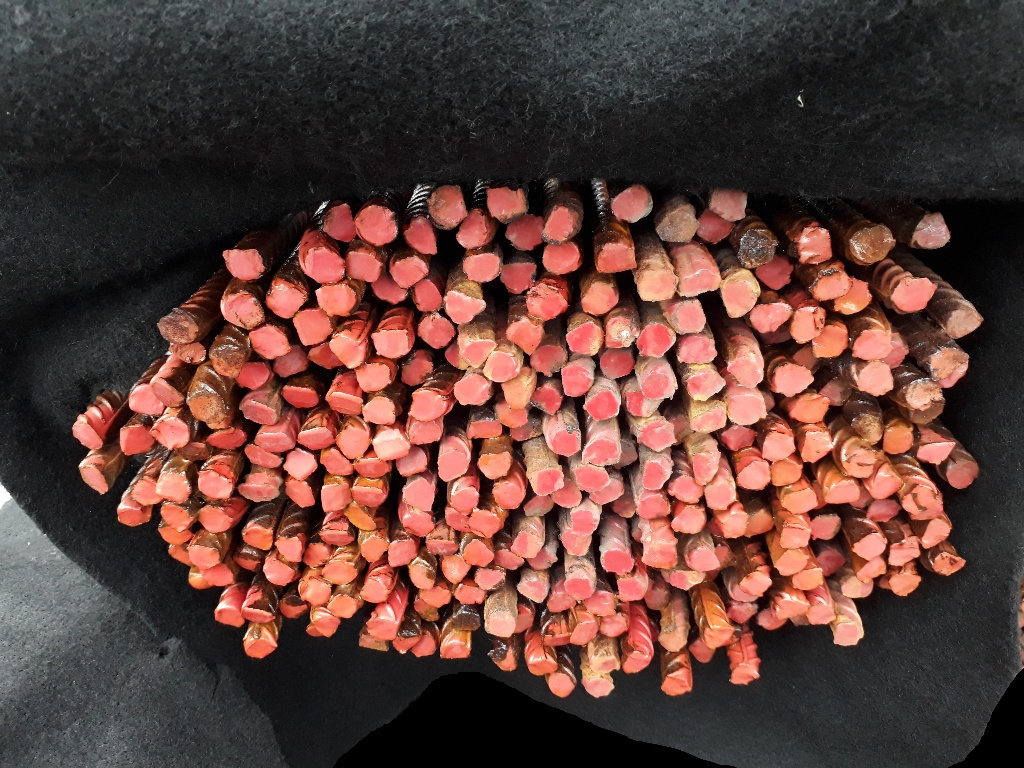dipstick: (723, 270, 759, 316), (356, 205, 397, 245), (851, 225, 893, 262), (430, 187, 466, 228), (221, 293, 263, 328), (892, 278, 932, 313), (418, 312, 454, 349), (528, 285, 565, 321), (293, 311, 332, 345), (305, 250, 344, 284), (612, 186, 649, 221), (739, 232, 776, 267), (798, 228, 833, 265), (266, 284, 305, 317), (446, 292, 486, 324), (223, 249, 264, 280), (857, 362, 893, 397), (638, 323, 675, 357), (249, 328, 289, 359), (835, 280, 871, 314), (658, 211, 696, 243), (323, 203, 354, 242), (597, 244, 637, 274), (773, 366, 813, 396), (670, 299, 705, 333), (915, 213, 949, 248), (486, 188, 528, 216), (750, 305, 793, 332), (507, 215, 542, 248), (931, 346, 967, 378), (729, 395, 767, 425), (159, 315, 198, 344), (687, 371, 726, 400), (851, 331, 890, 360), (583, 283, 618, 315), (814, 323, 846, 358), (410, 389, 446, 420), (696, 211, 732, 242), (318, 284, 355, 314), (711, 190, 748, 220), (789, 396, 830, 423), (639, 271, 677, 300), (543, 208, 575, 242), (506, 321, 541, 352), (501, 263, 536, 294), (344, 251, 380, 281), (543, 244, 579, 274), (680, 270, 720, 297), (692, 403, 729, 432), (458, 210, 486, 248), (337, 427, 370, 459), (566, 322, 599, 354), (792, 308, 824, 341), (454, 376, 488, 407), (600, 348, 634, 379), (758, 259, 792, 290), (812, 271, 851, 298), (406, 219, 436, 254), (736, 460, 771, 490), (153, 419, 189, 448), (463, 254, 499, 283), (728, 359, 763, 388), (678, 338, 717, 364), (372, 329, 408, 357), (244, 628, 277, 658), (187, 395, 225, 421), (374, 432, 409, 460), (240, 446, 282, 469), (801, 431, 832, 462), (275, 346, 305, 378), (284, 450, 316, 480), (402, 481, 434, 511), (120, 425, 153, 454), (438, 450, 467, 483), (907, 379, 941, 407), (626, 392, 664, 417), (638, 424, 673, 451), (531, 346, 567, 372), (211, 348, 242, 378), (396, 447, 427, 477), (414, 280, 443, 312), (485, 353, 517, 382), (605, 318, 637, 347), (198, 471, 231, 499), (762, 433, 795, 461), (852, 533, 886, 560), (372, 279, 408, 304), (583, 440, 619, 465), (821, 377, 851, 407), (852, 414, 882, 444), (332, 336, 363, 365), (80, 464, 109, 495), (394, 258, 425, 287), (72, 422, 104, 450), (158, 472, 190, 500), (357, 363, 389, 391), (672, 506, 704, 534), (771, 459, 803, 487), (363, 397, 396, 424), (319, 449, 353, 475), (159, 504, 194, 529), (947, 312, 982, 337), (921, 520, 950, 550), (464, 339, 495, 367), (587, 392, 618, 420), (883, 426, 914, 454), (283, 385, 319, 409), (400, 358, 432, 385), (781, 488, 817, 512), (888, 539, 920, 566), (199, 507, 232, 533), (776, 549, 809, 575), (694, 451, 720, 484), (324, 391, 361, 414), (721, 427, 758, 450), (669, 476, 703, 501), (207, 428, 247, 449), (387, 540, 417, 568), (285, 481, 315, 509), (531, 387, 561, 415), (345, 505, 376, 532), (705, 483, 736, 510), (478, 453, 510, 479), (408, 420, 441, 445), (530, 469, 563, 494), (241, 401, 275, 425), (575, 466, 609, 490), (297, 427, 334, 449), (321, 482, 350, 510), (494, 482, 523, 510), (562, 366, 590, 395), (408, 558, 435, 588), (470, 510, 500, 537), (948, 461, 978, 488), (846, 451, 876, 478), (130, 387, 161, 413), (152, 380, 183, 406), (910, 400, 945, 423), (310, 344, 342, 369), (643, 373, 675, 398), (274, 535, 301, 564), (322, 561, 356, 584), (255, 432, 294, 452), (403, 511, 434, 536), (485, 612, 516, 637), (871, 475, 902, 500), (591, 480, 623, 504), (902, 489, 934, 513), (917, 443, 955, 463), (638, 495, 671, 518), (360, 536, 387, 564), (747, 509, 774, 537), (232, 546, 261, 572), (238, 364, 268, 389), (264, 560, 294, 585), (811, 515, 841, 540), (934, 552, 965, 576), (642, 547, 677, 568), (450, 487, 478, 513), (552, 430, 580, 456), (781, 525, 810, 550), (643, 461, 668, 490), (169, 343, 205, 363), (359, 578, 389, 602), (621, 650, 651, 674), (242, 600, 273, 623), (243, 526, 274, 549), (329, 595, 360, 618), (603, 551, 634, 574), (443, 556, 469, 583), (570, 620, 597, 646), (354, 459, 389, 479), (556, 479, 581, 507), (818, 551, 846, 576), (239, 484, 280, 501), (189, 545, 219, 568), (661, 674, 692, 696), (868, 500, 899, 522), (134, 476, 158, 504), (302, 580, 330, 604), (512, 533, 540, 557), (889, 574, 921, 595), (466, 542, 495, 565), (320, 527, 355, 546), (204, 563, 234, 585), (792, 568, 822, 590), (841, 577, 874, 597), (352, 486, 386, 505), (835, 623, 863, 646), (495, 407, 527, 427), (688, 550, 720, 570), (518, 581, 548, 602), (670, 571, 705, 589), (573, 510, 598, 535), (563, 532, 590, 555), (587, 592, 614, 615), (503, 383, 530, 406), (117, 504, 148, 524), (729, 664, 760, 684), (279, 596, 307, 618), (743, 573, 771, 595), (466, 420, 500, 438), (825, 484, 859, 502), (658, 631, 687, 652), (304, 543, 329, 567), (548, 674, 574, 697), (618, 579, 645, 601), (529, 654, 557, 675), (477, 569, 506, 589), (524, 496, 553, 516), (415, 599, 439, 623), (723, 513, 747, 537), (943, 365, 968, 388), (529, 550, 559, 569), (600, 615, 627, 636), (859, 561, 886, 582), (369, 619, 397, 639), (496, 550, 524, 570), (911, 502, 942, 520), (690, 640, 713, 664), (567, 577, 592, 599), (179, 443, 211, 460), (159, 527, 191, 544), (455, 585, 483, 604), (548, 592, 576, 611), (586, 678, 614, 697), (729, 604, 757, 623), (808, 605, 836, 624), (425, 539, 458, 555), (705, 626, 730, 647), (444, 509, 467, 531), (422, 588, 450, 606), (544, 626, 568, 647), (591, 656, 619, 674), (646, 589, 670, 610), (314, 615, 339, 635), (795, 349, 821, 368), (215, 608, 242, 626), (360, 634, 387, 652), (453, 613, 480, 631), (414, 634, 435, 657), (777, 599, 807, 615), (620, 439, 637, 467), (760, 610, 786, 628), (890, 343, 908, 369), (510, 426, 541, 441), (494, 649, 516, 670), (614, 496, 636, 517), (394, 634, 418, 653), (440, 643, 469, 658), (446, 345, 463, 369), (517, 606, 532, 633), (169, 547, 190, 566), (189, 570, 206, 589), (735, 588, 758, 602), (791, 615, 809, 627)
